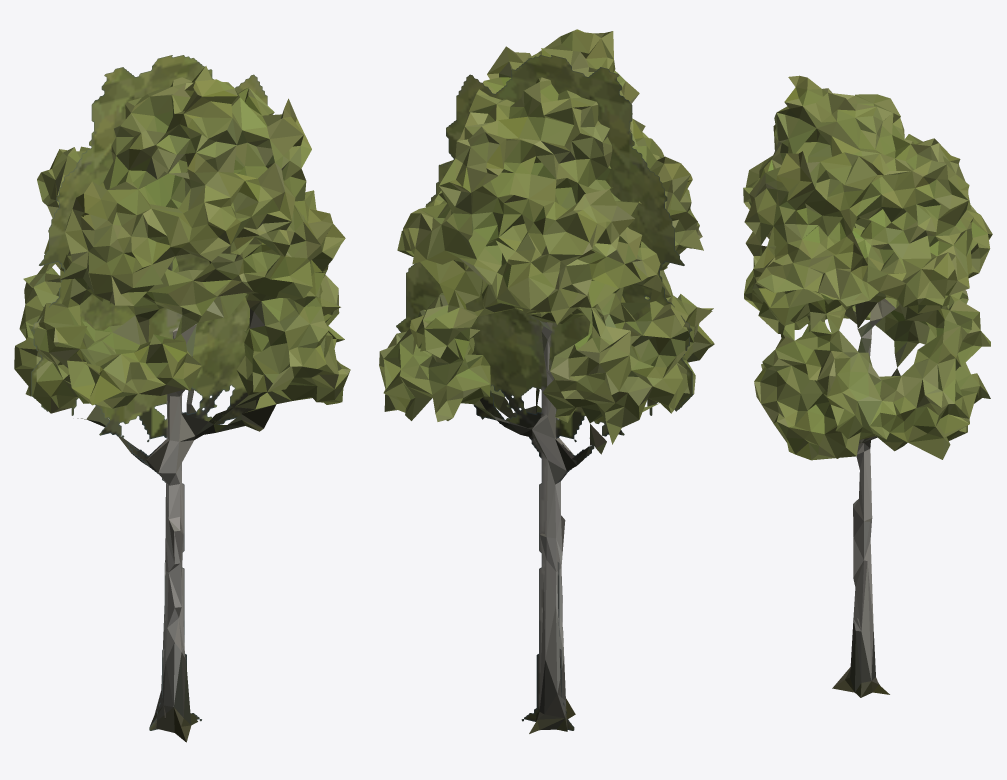
The model's file is mn_birch.glb.
The picture shows the model from 3 angles, left to right: view 1: azimuth 30°, elevation 25°; view 2: azimuth 150°, elevation 25°; view 3: azimuth 270°, elevation 25°; orthographic projection. The views are drawn at different scales.
Visible parts, largest first — view 1: mn_birch, mn_birch_impostor; view 2: mn_birch, mn_birch_impostor; view 3: mn_birch.
Boxes of the visible parts, x1,y1,x2,y2 form: mn_birch: (14,66,350,742); mn_birch_impostor: (31,55,267,730); mn_birch: (379,29,714,733); mn_birch_impostor: (396,55,692,730); mn_birch: (743,75,992,697).
Size of what is drawn, in the model's own units: 4.95 by 9.9 by 3.67.
Materials: 2 (1 with a texture image).
